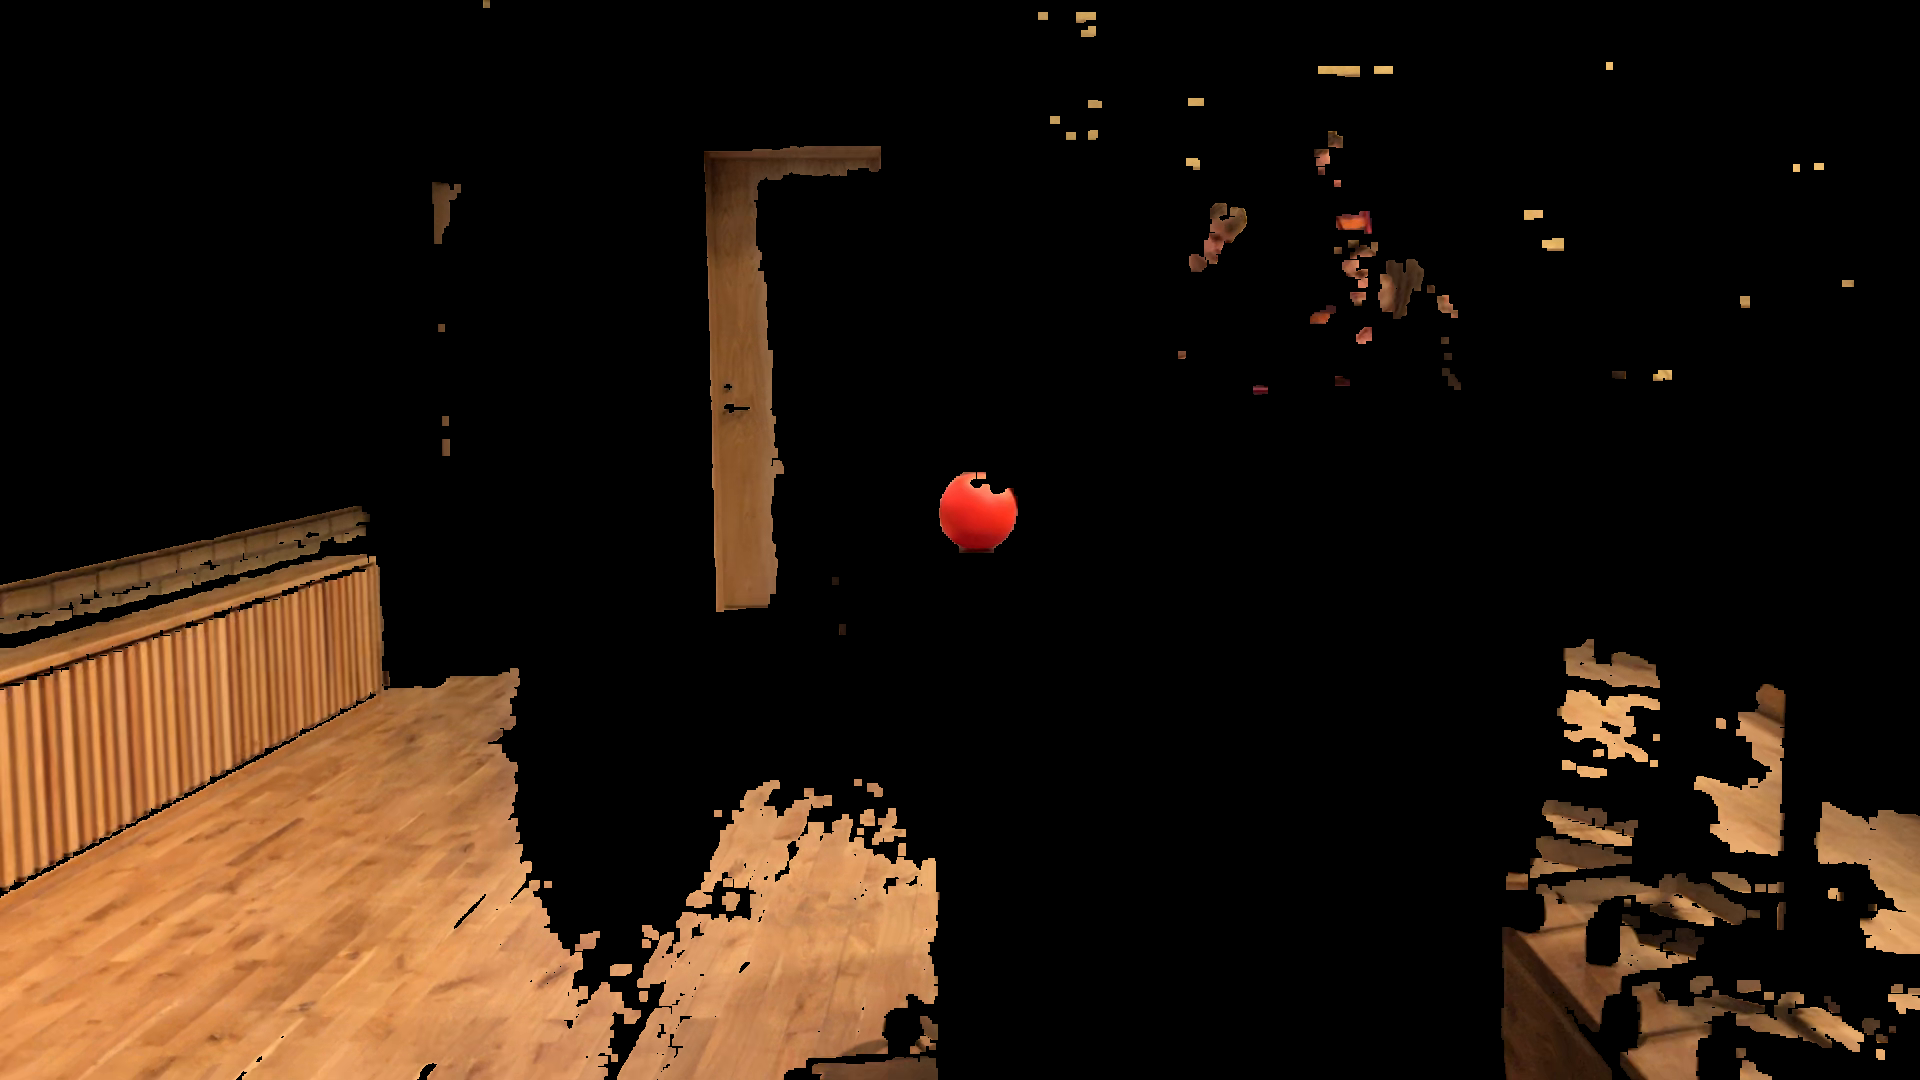Ball: (934, 465, 1030, 556)
